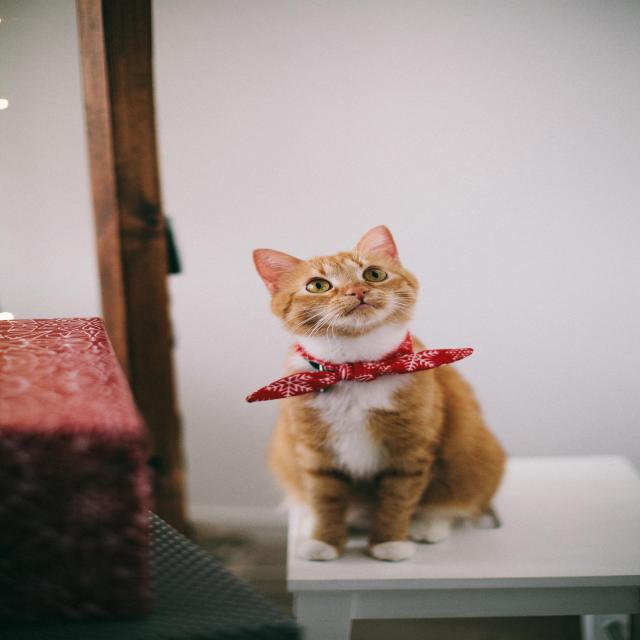Cat: (249, 224, 507, 562)
